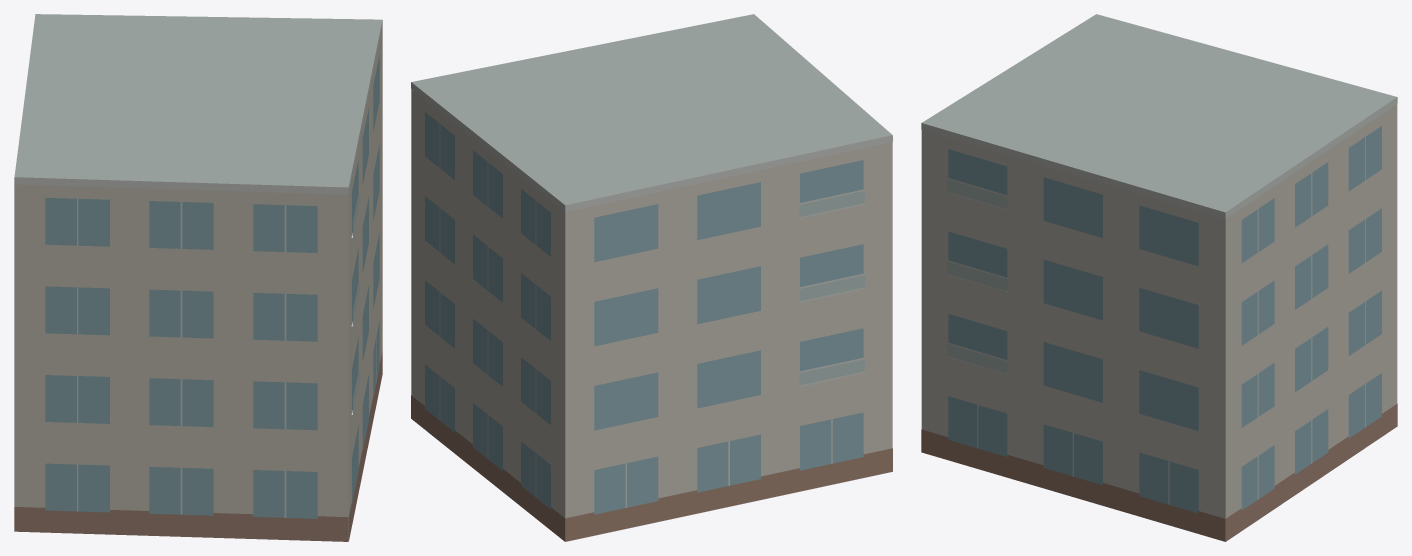
File: survey-upis-32737413.glb
The picture shows the model from 3 angles, left to right: view 1: azimuth 30°, elevation 25°; view 2: azimuth 150°, elevation 25°; view 3: azimuth 270°, elevation 25°; orthographic projection. The views are drawn at different scales.
Parts seen in each view (by area): view 1: survey-upis-32737413.tmp; view 2: survey-upis-32737413.tmp; view 3: survey-upis-32737413.tmp.
Boxes of the visible parts, box(x1,y1,x2,y2) form: survey-upis-32737413.tmp: box(14, 14, 382, 541); survey-upis-32737413.tmp: box(411, 14, 892, 541); survey-upis-32737413.tmp: box(921, 14, 1397, 541).
Bounding box in the file's own units: 15.64 × 12.1 × 15.85.
